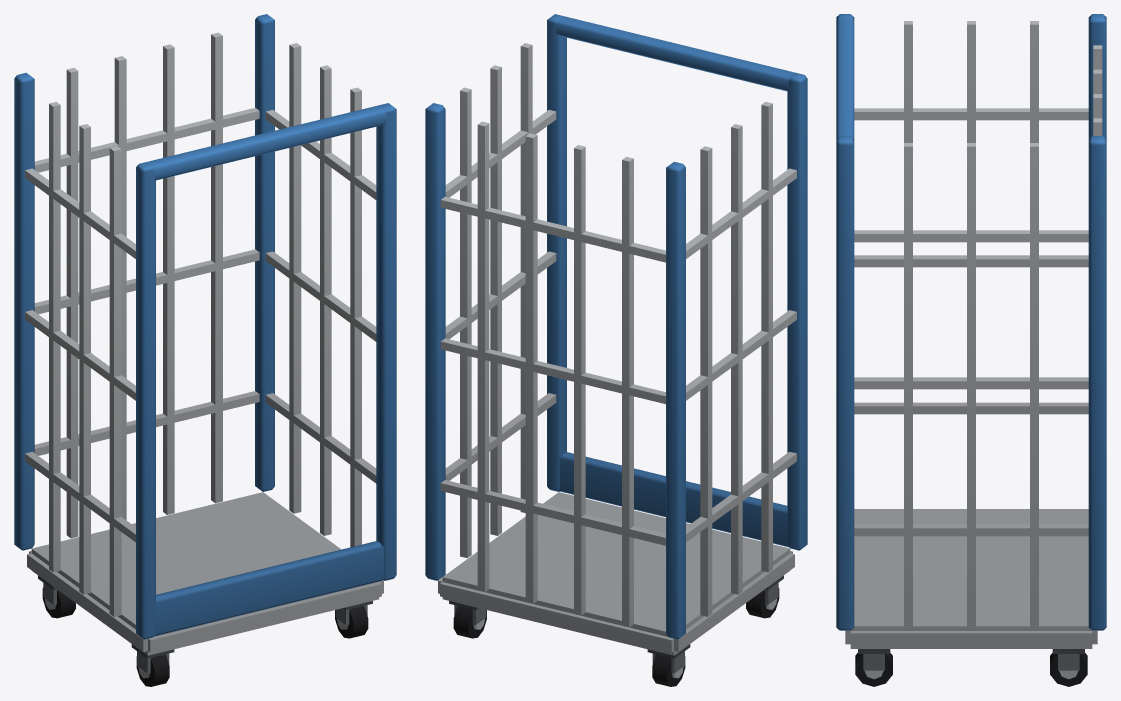
File: RollCage_01.glb
3 renders of one model, left to right at view 1: azimuth 30°, elevation 25°; view 2: azimuth 150°, elevation 25°; view 3: azimuth 270°, elevation 25°, orthographic. The views are drawn at different scales.
Parts seen in each view (by area): view 1: SM_RollCage_01; view 2: SM_RollCage_01; view 3: SM_RollCage_01.
Boxes of the visible parts, <box> form: SM_RollCage_01: <box>14,14,396,686</box>; SM_RollCage_01: <box>425,14,807,686</box>; SM_RollCage_01: <box>836,14,1106,686</box>.
Bounding box in the file's own units: 0.85 × 1.7 × 0.75.
Materials: 1 (1 with a texture image).
